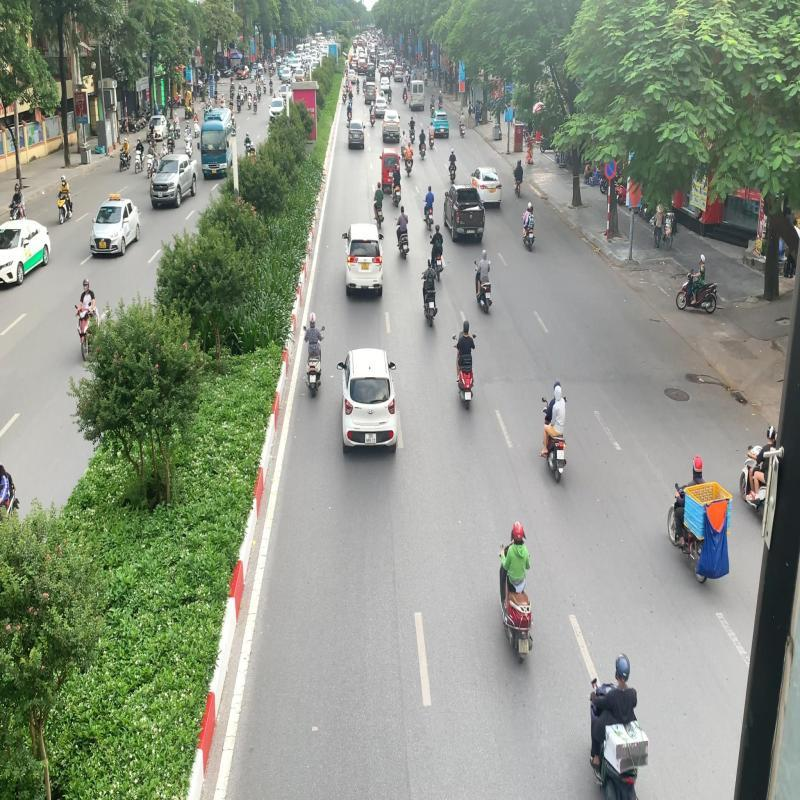helmet: (614, 652, 630, 682), (511, 520, 524, 544)
licenseplate: (518, 638, 530, 654)
motorcyclist: (589, 651, 650, 800), (498, 520, 534, 665)
